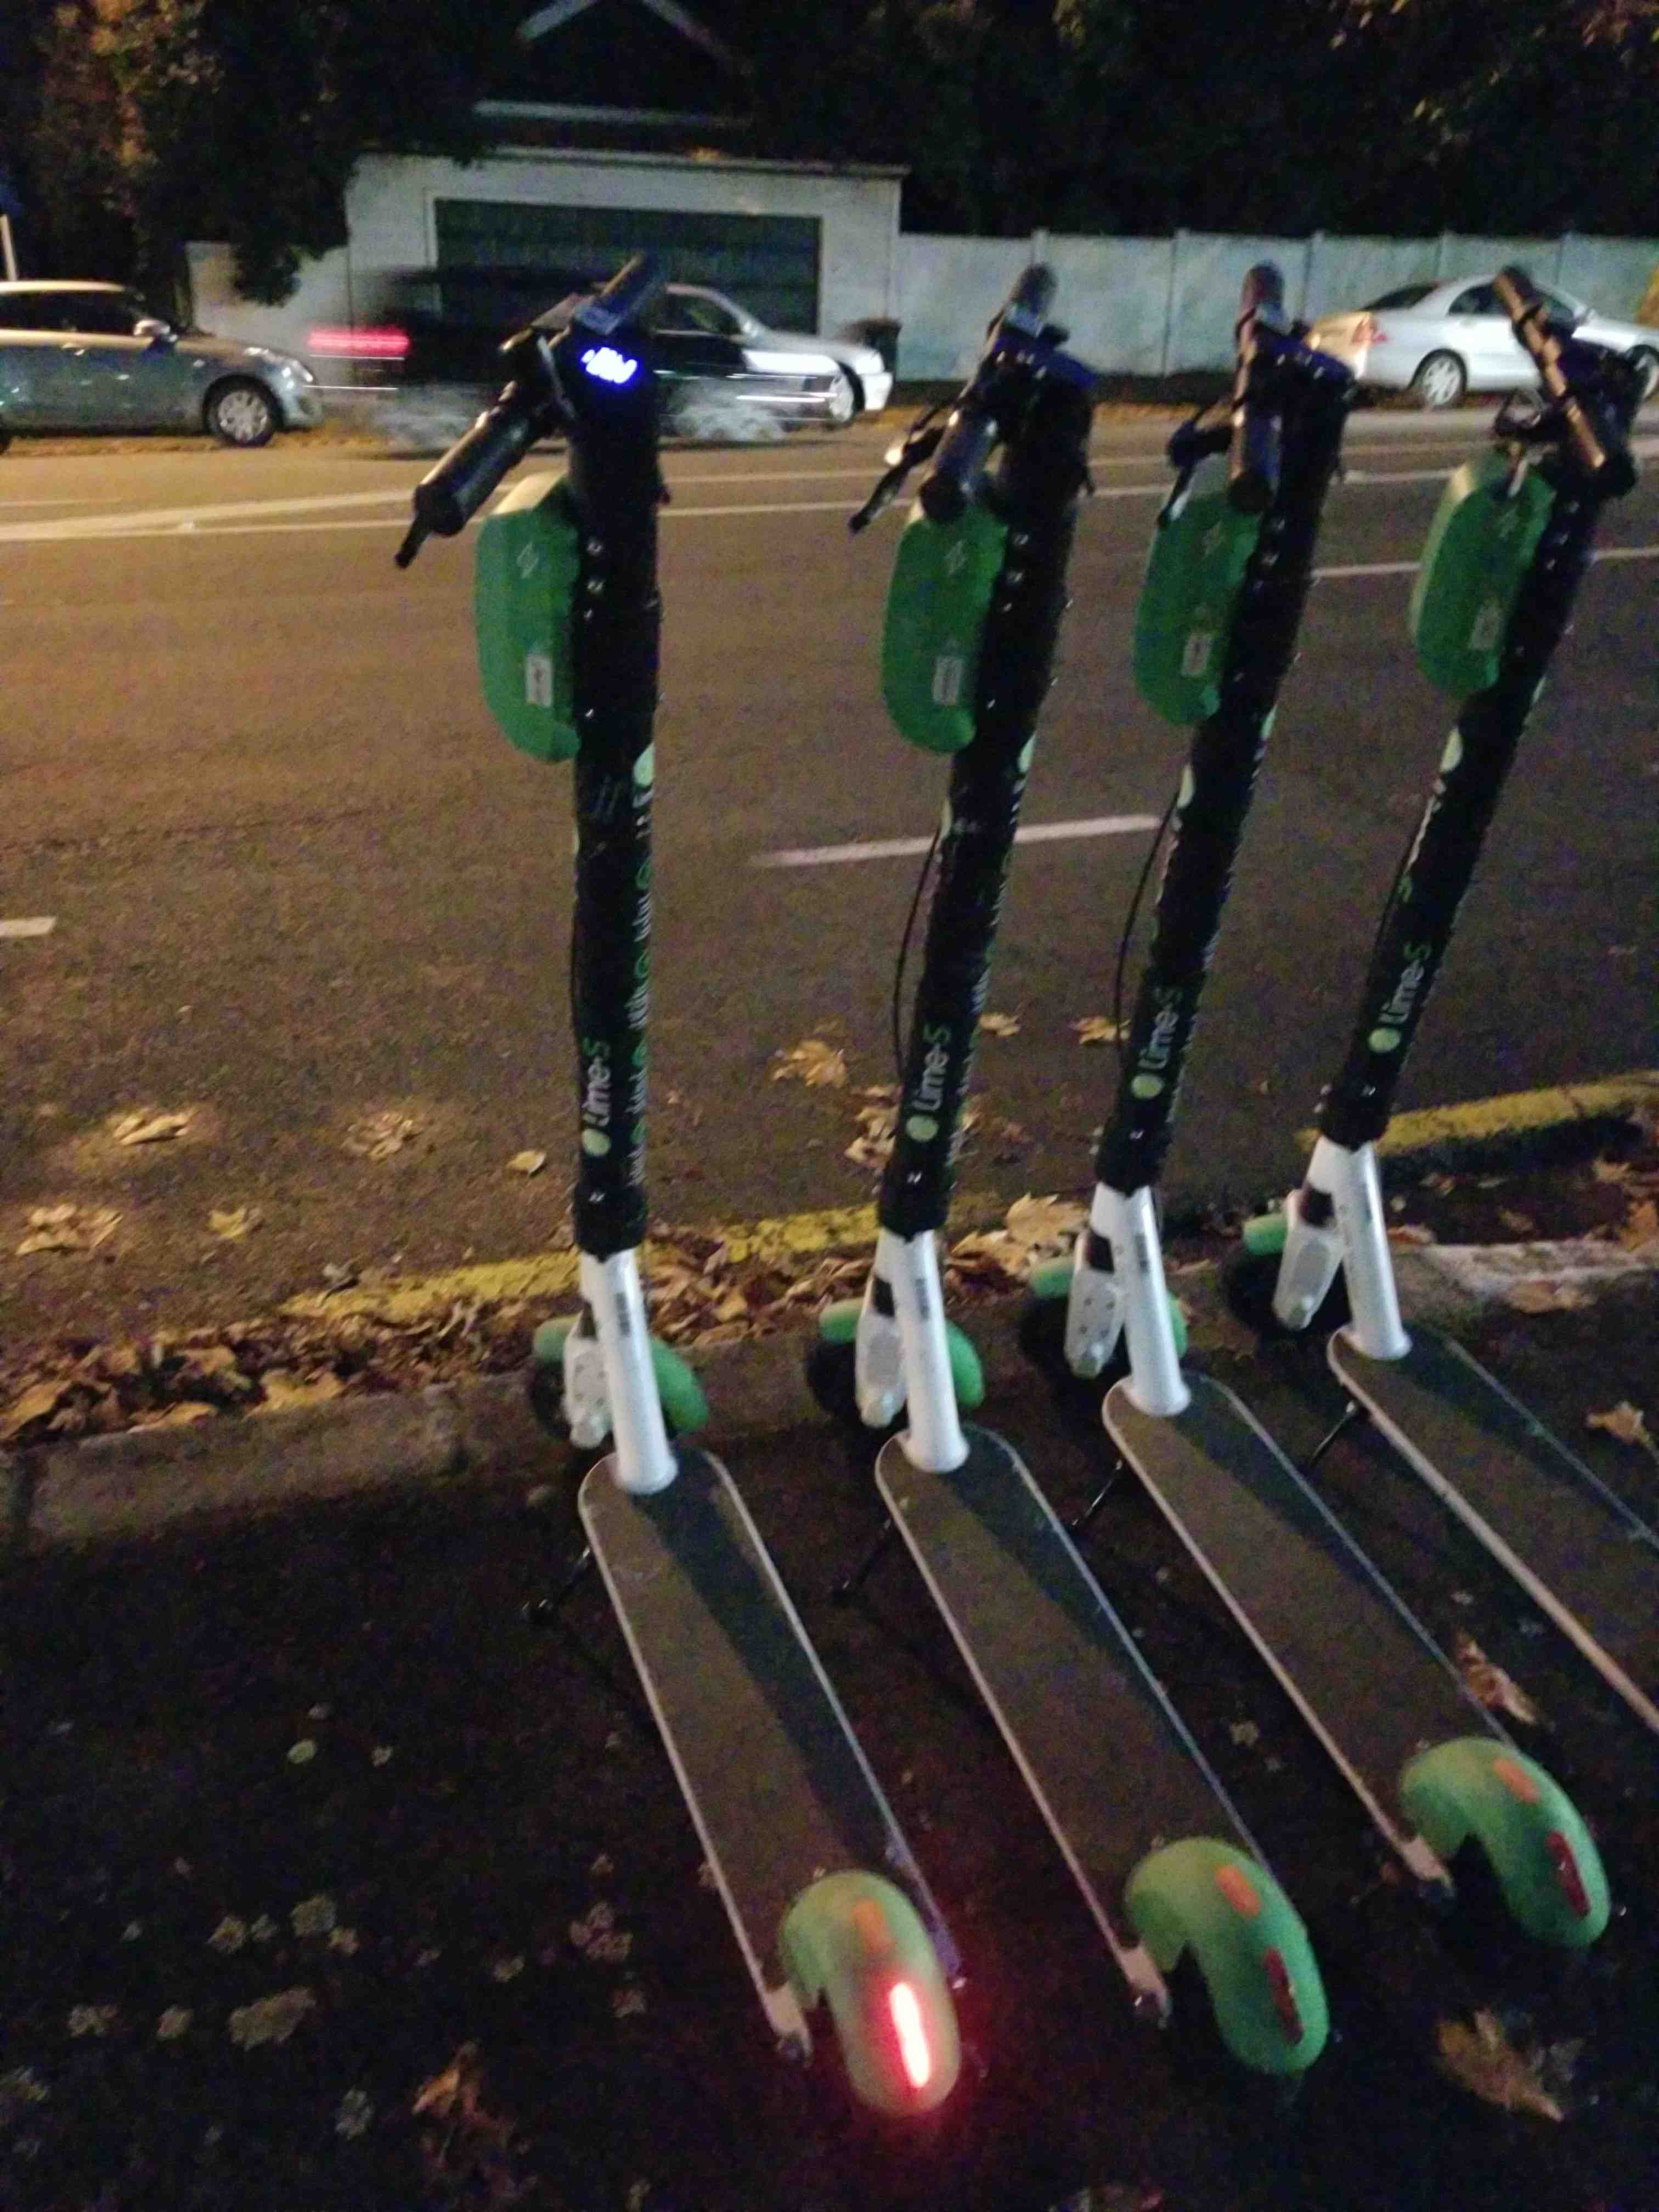too close: (460, 1221, 762, 1512), (1211, 1120, 1521, 1362), (772, 1207, 1028, 1480), (1007, 1172, 1244, 1423)
